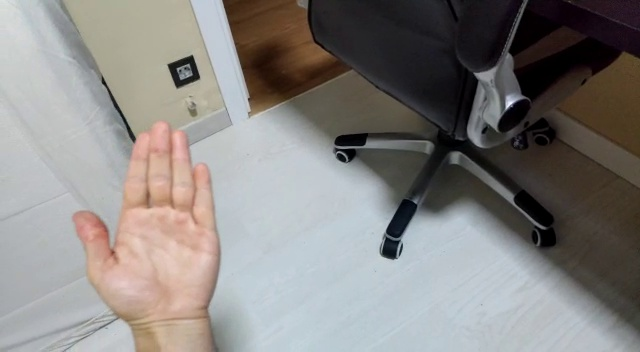Palm: (63, 117, 219, 351)
